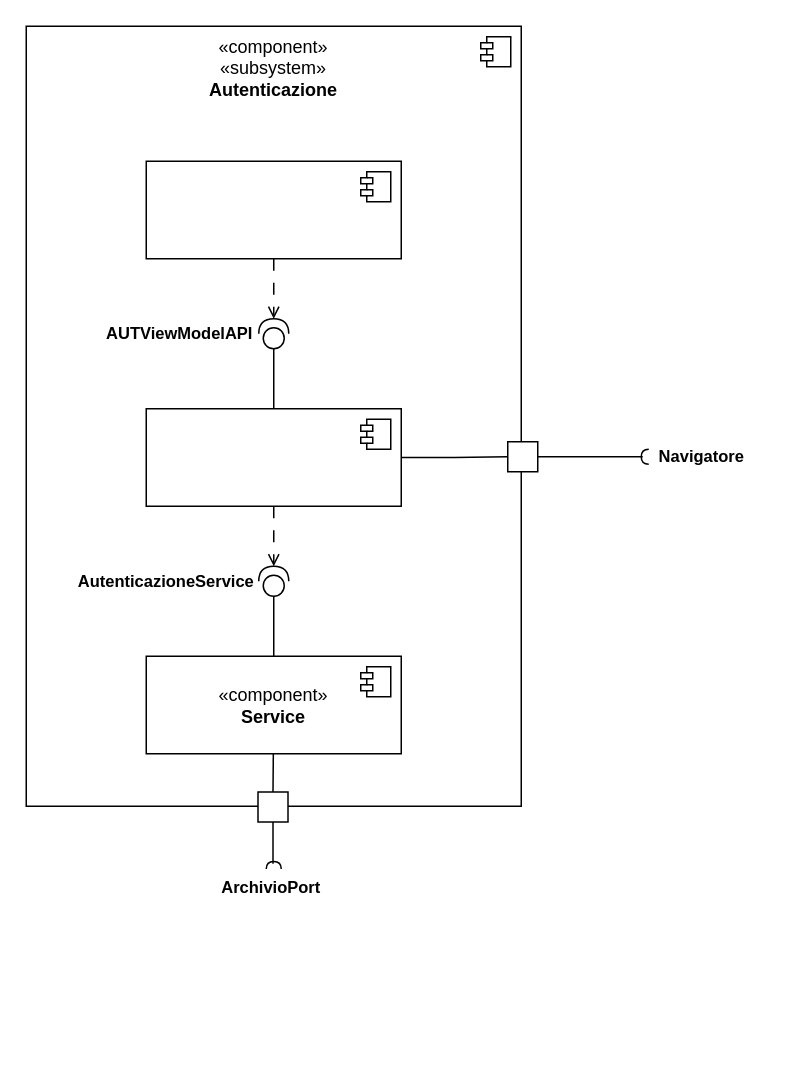
The diagram is 788 pixels wide and 1071 high, and some of its shapes have lost their labels. The shapes that lost their labels are listed below. From the top down, each one's box as (x1, y1, x2, y2) in pixels, then its label:
(145, 160, 401, 259): «component» View (GUI)
(145, 407, 401, 506): «component» ViewModel (controller)
